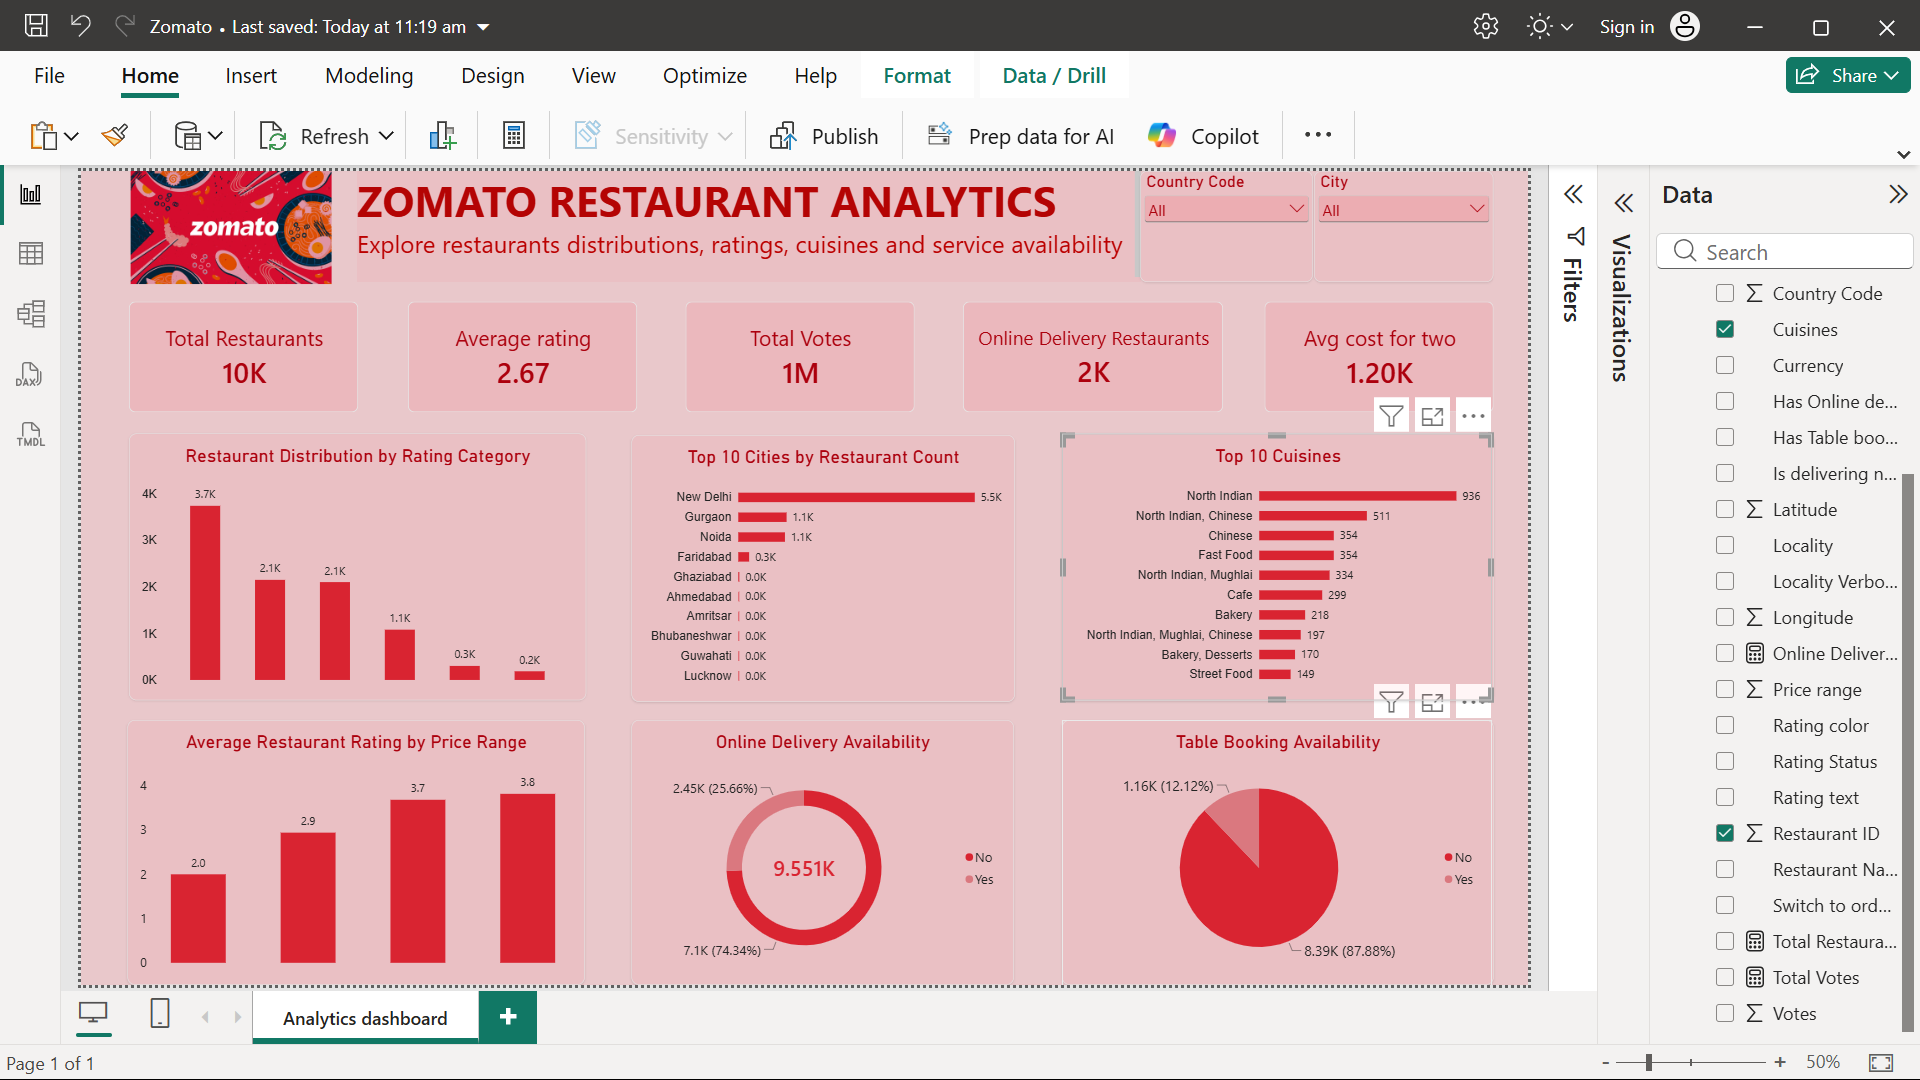

The page's visual inventory and layout, read from the dashboard file:
{"tool":"powerbi","page":{"name":"Analytics dashboard","canvas":[1920,1080],"ordinal":0},"visuals":[{"type":"cardVisual","fields":{"Data":["Zomato_Restaurant_Dataset_Cleaned.Total Restaurants"]},"box":[63.6,172.6,304.4,147.6],"z":0},{"type":"cardVisual","fields":{"Data":["Zomato_Restaurant_Dataset_Cleaned.Average rating"]},"box":[433,172.6,304,147.6],"z":1},{"type":"cardVisual","fields":{"Data":["Zomato_Restaurant_Dataset_Cleaned.Total Votes"]},"box":[801.9,172.6,304,147.6],"z":2},{"type":"cardVisual","fields":{"Data":["Zomato_Restaurant_Dataset_Cleaned.Online Delivery Restaurants"]},"box":[1170.7,172.9,345.8,147.4],"z":3},{"type":"cardVisual","fields":{"Data":["Zomato_Restaurant_Dataset_Cleaned.Avg cost for two"]},"box":[1570.4,172.9,304,147.6],"z":4},{"type":"columnChart","title":"Restaurant Distribution by Rating Category","fields":{"Category":["Zomato_Restaurant_Dataset_Cleaned.Rating text"],"Y":["CountNonNull(Zomato_Restaurant_Dataset_Cleaned.Restaurant ID)"]},"box":[63.6,349.2,606.4,354.3],"z":5},{"type":"barChart","title":"Top 10 Cities by Restaurant Count","fields":{"Category":["Zomato_Restaurant_Dataset_Cleaned.City"],"Y":["CountNonNull(Zomato_Restaurant_Dataset_Cleaned.Restaurant ID)"]},"box":[731.2,349.8,508.8,354.3],"z":6},{"type":"barChart","title":"Top 10 Cuisines","fields":{"Category":["Zomato_Restaurant_Dataset_Cleaned.Cuisines"],"Y":["CountNonNull(Zomato_Restaurant_Dataset_Cleaned.Restaurant ID)"]},"box":[1301.1,348.7,572.6,354.3],"z":7},{"type":"columnChart","title":"Average Restaurant Rating by Price Range","fields":{"Category":["Zomato_Restaurant_Dataset_Cleaned.Price range"],"Y":["Avg(Zomato_Restaurant_Dataset_Cleaned.Aggregate rating)"]},"box":[62.4,728.5,606.6,351.5],"z":8},{"type":"donutChart","title":"Online Delivery Availability","fields":{"Category":["Zomato_Restaurant_Dataset_Cleaned.Has Online delivery"],"Y":["CountNonNull(Zomato_Restaurant_Dataset_Cleaned.Restaurant ID)"]},"box":[731.3,728.5,507.4,351.5],"z":9},{"type":"pieChart","title":"Table Booking Availability","fields":{"Category":["Zomato_Restaurant_Dataset_Cleaned.Has Table booking"],"Y":["CountNonNull(Zomato_Restaurant_Dataset_Cleaned.Restaurant ID)"]},"box":[1301.1,728.5,572.6,351.5],"z":10},{"type":"textbox","box":[365.7,0,1040.3,147.4],"z":11},{"type":"image","box":[31.2,0,334.5,150.2],"z":12},{"type":"slicer","fields":{"Values":["Zomato_Restaurant_Dataset_Cleaned.Country Code"]},"box":[1406,0,229.6,147.4],"z":13},{"type":"slicer","fields":{"Values":["Zomato_Restaurant_Dataset_Cleaned.City"]},"box":[1635.6,0,238.1,147.4],"z":14}]}

Visuals, with their boxes on the page's 1920x1080 design canvas (x1, y1, x2, y2). These are canvas units, not pixel positions in the 1920x1080 screenshot, which may show the page scaled, cropped or inside an application window:
cardVisual - Zomato_Restaurant_Dataset_Cleaned.Total Restaurants: <bbox>64, 173, 368, 320</bbox>
cardVisual - Zomato_Restaurant_Dataset_Cleaned.Average rating: <bbox>433, 173, 737, 320</bbox>
cardVisual - Zomato_Restaurant_Dataset_Cleaned.Total Votes: <bbox>802, 173, 1106, 320</bbox>
cardVisual - Zomato_Restaurant_Dataset_Cleaned.Online Delivery Restaurants: <bbox>1171, 173, 1516, 320</bbox>
cardVisual - Zomato_Restaurant_Dataset_Cleaned.Avg cost for two: <bbox>1570, 173, 1874, 320</bbox>
"Restaurant Distribution by Rating Category" columnChart: <bbox>64, 349, 670, 704</bbox>
"Top 10 Cities by Restaurant Count" barChart: <bbox>731, 350, 1240, 704</bbox>
"Top 10 Cuisines" barChart: <bbox>1301, 349, 1874, 703</bbox>
"Average Restaurant Rating by Price Range" columnChart: <bbox>62, 728, 669, 1080</bbox>
"Online Delivery Availability" donutChart: <bbox>731, 728, 1239, 1080</bbox>
"Table Booking Availability" pieChart: <bbox>1301, 728, 1874, 1080</bbox>
textbox: <bbox>366, 0, 1406, 147</bbox>
image: <bbox>31, 0, 366, 150</bbox>
slicer - Zomato_Restaurant_Dataset_Cleaned.Country Code: <bbox>1406, 0, 1636, 147</bbox>
slicer - Zomato_Restaurant_Dataset_Cleaned.City: <bbox>1636, 0, 1874, 147</bbox>
